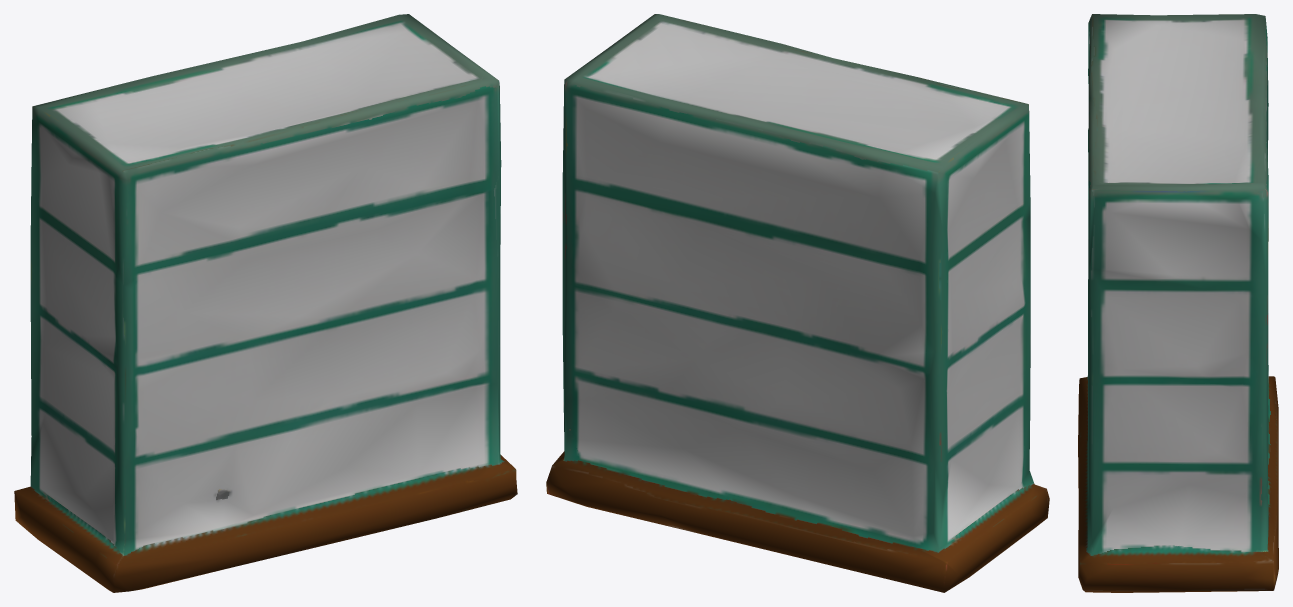
Rendered from china-hutch.glb.
3 views of the same model, side by side, from view 1: azimuth 30°, elevation 25°; view 2: azimuth 150°, elevation 25°; view 3: azimuth 270°, elevation 25° (orthographic). The views are drawn at different scales.
Visible parts, largest first — view 1: geometry_0.001; view 2: geometry_0.001; view 3: geometry_0.001.
Part boxes in pixels (x1=…): geometry_0.001: x1=14, y1=14, x2=517, y2=592; geometry_0.001: x1=546, y1=14, x2=1049, y2=592; geometry_0.001: x1=1078, y1=14, x2=1278, y2=592.
Bounding box in the file's own units: 0.9998 × 0.9908 × 0.4492.
1 material, 1 textured.
